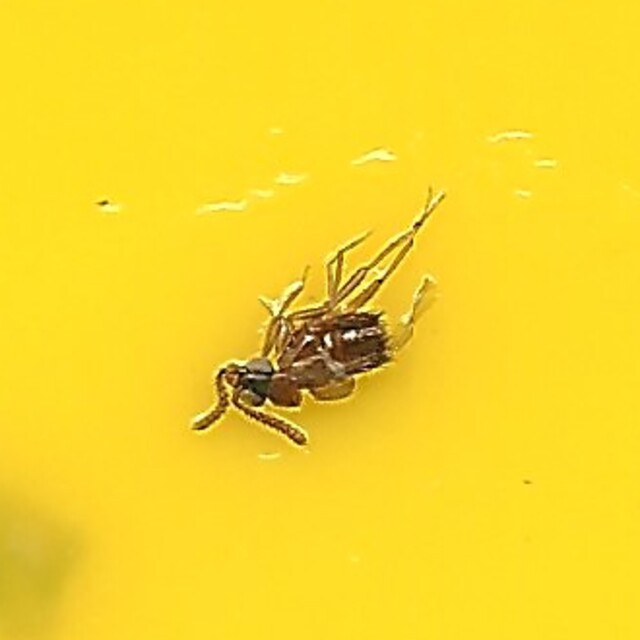Coleoptera: (194, 193, 446, 447)
